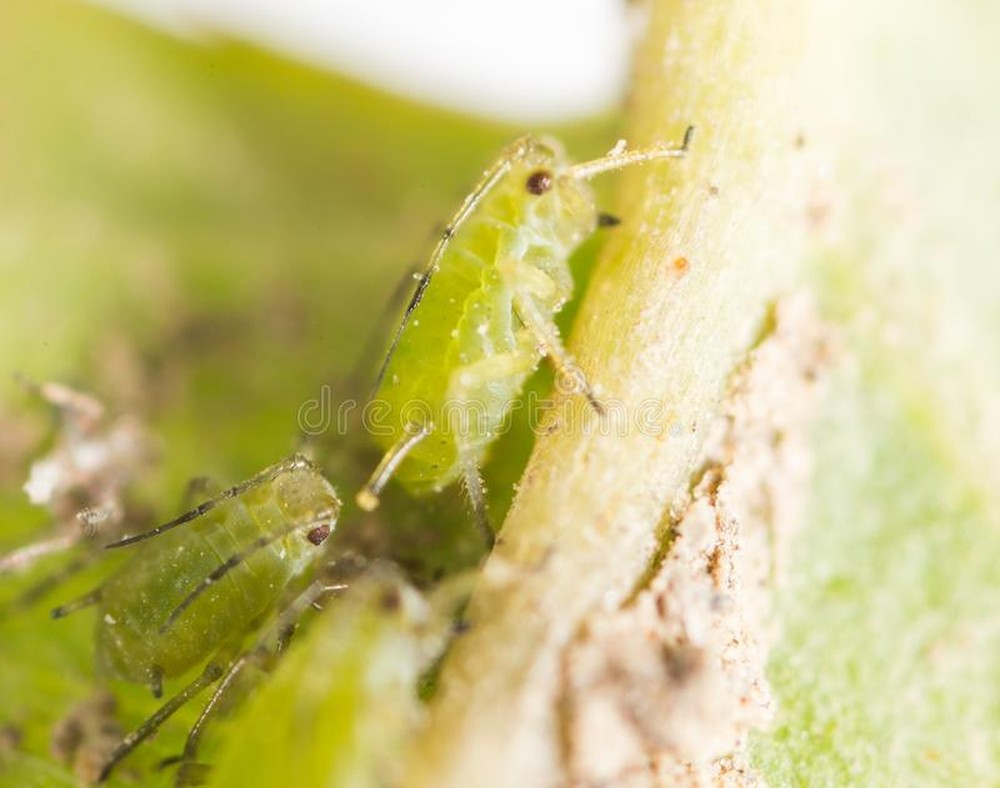Pulgon: (331, 116, 692, 542), (37, 446, 371, 784)
